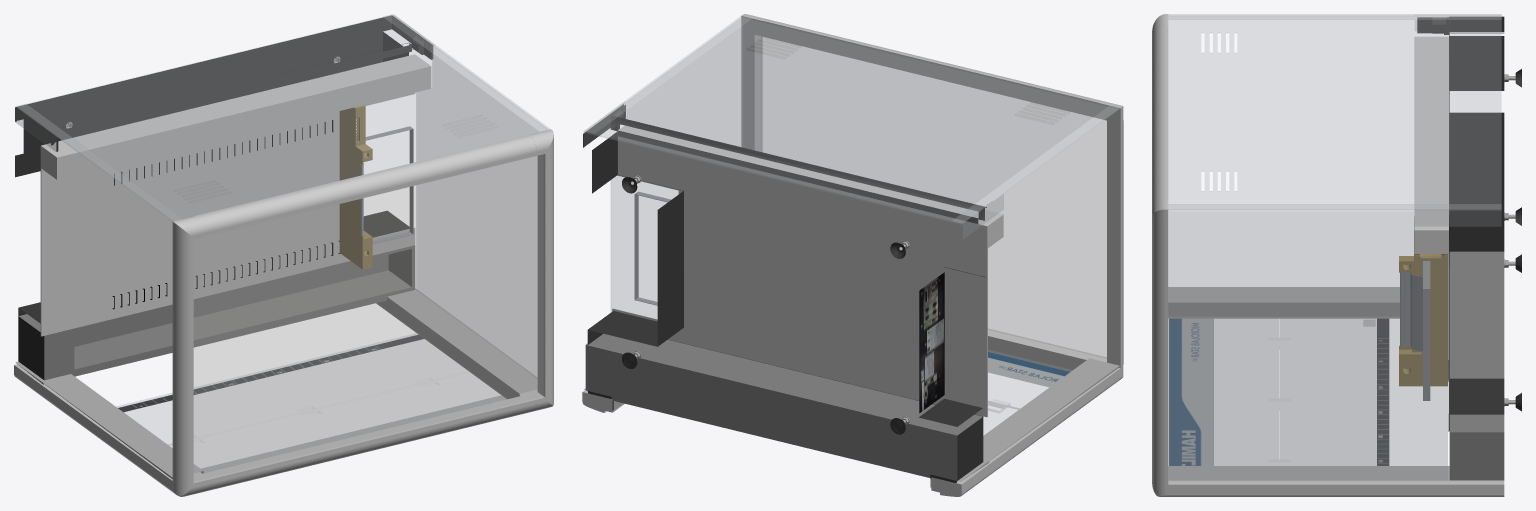
The model's file is STARLet_with_top_panel.glb.
The picture shows the model from 3 angles, left to right: view 1: azimuth 30°, elevation 25°; view 2: azimuth 150°, elevation 25°; view 3: azimuth 270°, elevation 25°; orthographic projection. The views are drawn at different scales.
Parts seen in each view (by area): view 1: starlet_base; view 2: starlet_base; view 3: starlet_base.
Boxes of the visible parts, box(x1,y1,x2,y2) form: starlet_base: box(14, 14, 553, 496); starlet_base: box(582, 14, 1123, 496); starlet_base: box(1152, 14, 1521, 496).
Bounding box in the file's own units: 1.13 × 0.7926 × 0.903.
Materials: 15 (4 with a texture image).
